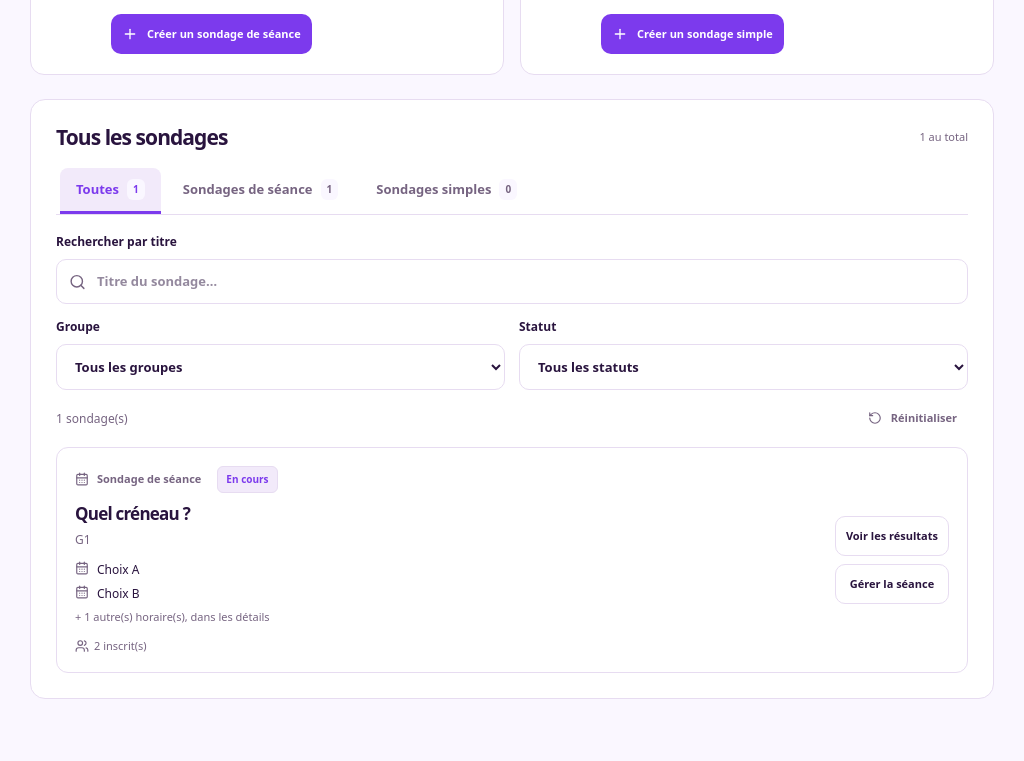
it: keeps both poll types and their results without attendance controls
(page scrolled)
expect the button "Créer un sondage de séance" is shown: met, box [111,14,312,54]
expect the button "Créer un sondage simple" is shown: met, box [601,14,784,54]
Click the button with aria-label "Voir les résultats : Quel créneau ?".
click(892, 536)  # box [835,516,949,556]
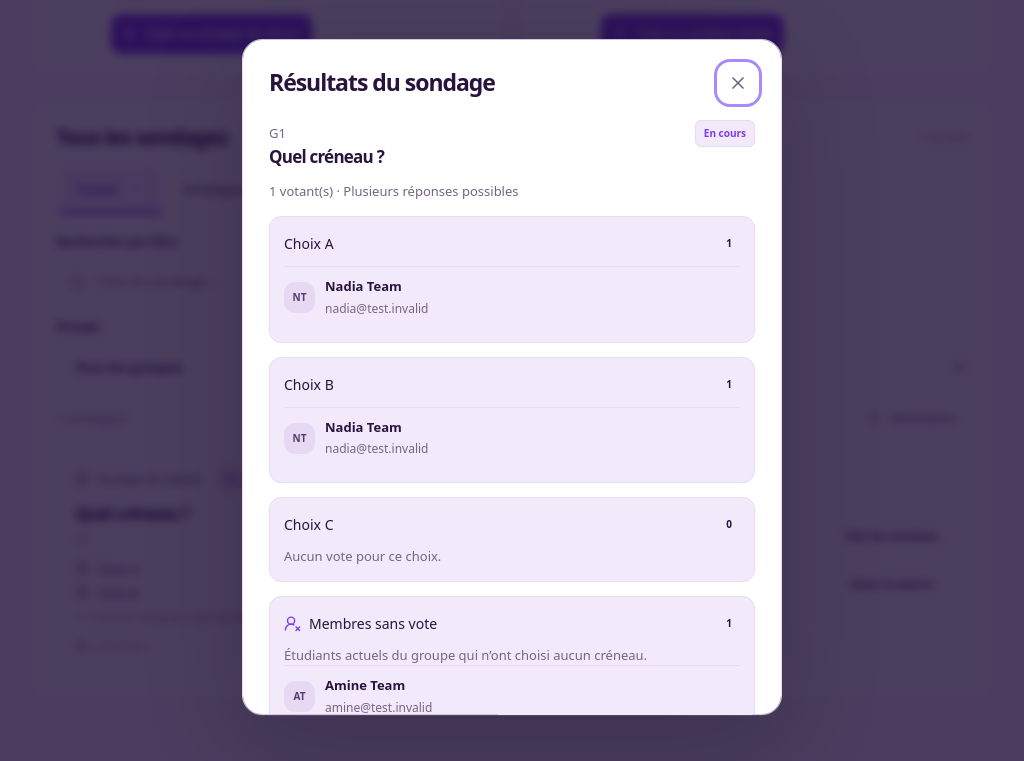
expect the 1st text "nadia@test.invalid" is shown: met, box [325,300,428,318]
expect the 2nd text "nadia@test.invalid" is shown: met, box [325,441,428,459]
expect the text "Aucun vote pour ce choix." is shown: met, box [284,548,441,566]
